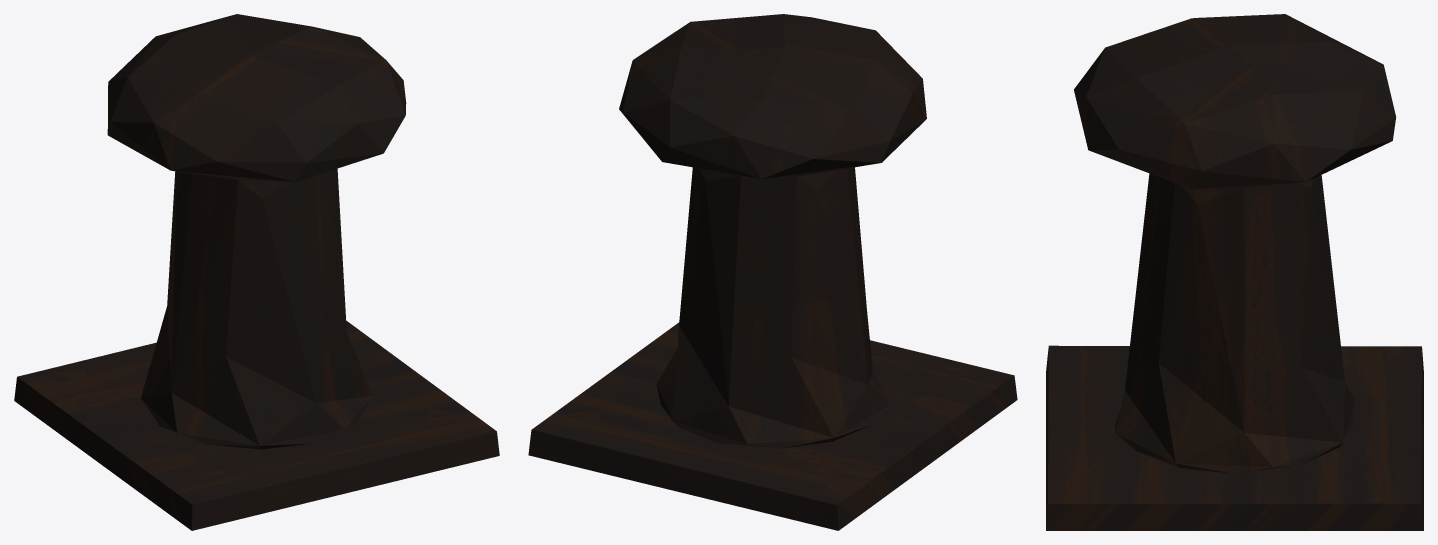
Rendered from SM_Banchina_Bitta_LOD2.fbx.
3 renders of one model, left to right at view 1: azimuth 30°, elevation 25°; view 2: azimuth 150°, elevation 25°; view 3: azimuth 270°, elevation 25°, orthographic. The views are drawn at different scales.
Parts seen in each view (by area): view 1: SM_Banchina_Bitta_LOD2; view 2: SM_Banchina_Bitta_LOD2; view 3: SM_Banchina_Bitta_LOD2.
Boxes of the visible parts, left/top/right/bottom form: SM_Banchina_Bitta_LOD2: left=14, top=14, right=499, bottom=530; SM_Banchina_Bitta_LOD2: left=528, top=14, right=1017, bottom=530; SM_Banchina_Bitta_LOD2: left=1046, top=14, right=1423, bottom=530.
Bounding box in the file's own units: 40 × 40 × 46.81.
Materials: 1 (1 with a texture image).
